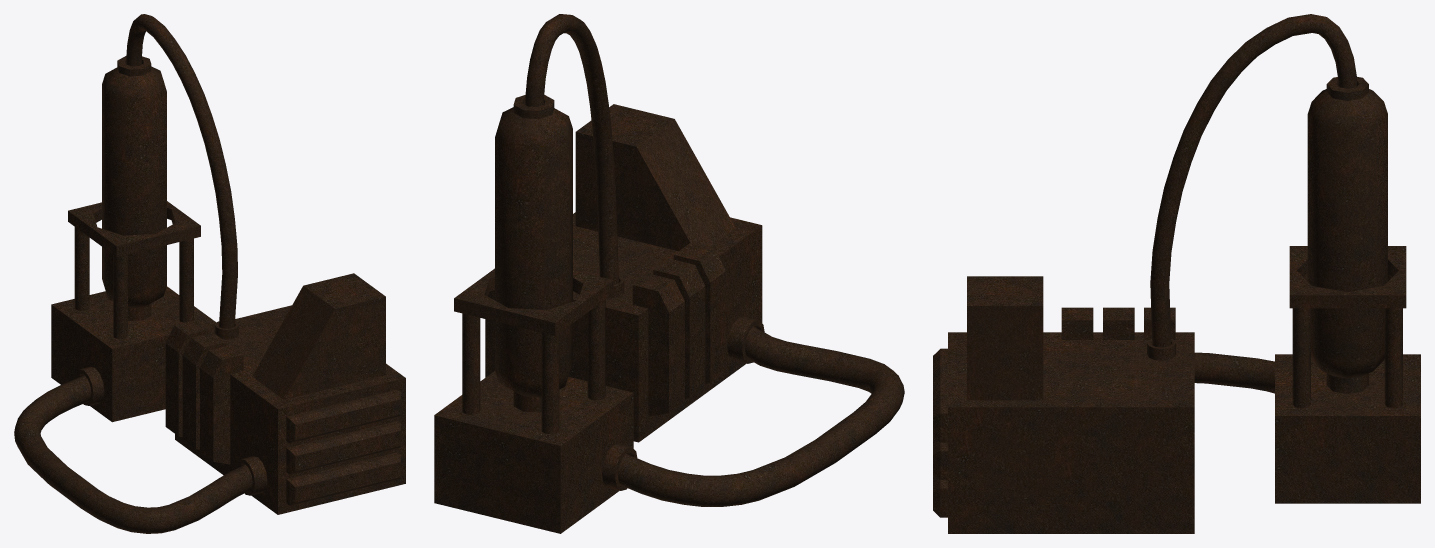
Rendered from test_machine_mx_1.glb.
3 views of the same model, side by side, from view 1: azimuth 30°, elevation 25°; view 2: azimuth 150°, elevation 25°; view 3: azimuth 270°, elevation 25° (orthographic). The views are drawn at different scales.
Visible parts, largest first — view 1: test_machine_mx_1; view 2: test_machine_mx_1; view 3: test_machine_mx_1.
Part boxes in pixels (box(x1,y1,x2,y2)): test_machine_mx_1: box(14, 14, 405, 533); test_machine_mx_1: box(434, 14, 904, 533); test_machine_mx_1: box(933, 14, 1420, 533).
Bounding box in the file's own units: 2.66 × 3.52 × 3.4.
1 material, 1 textured.
